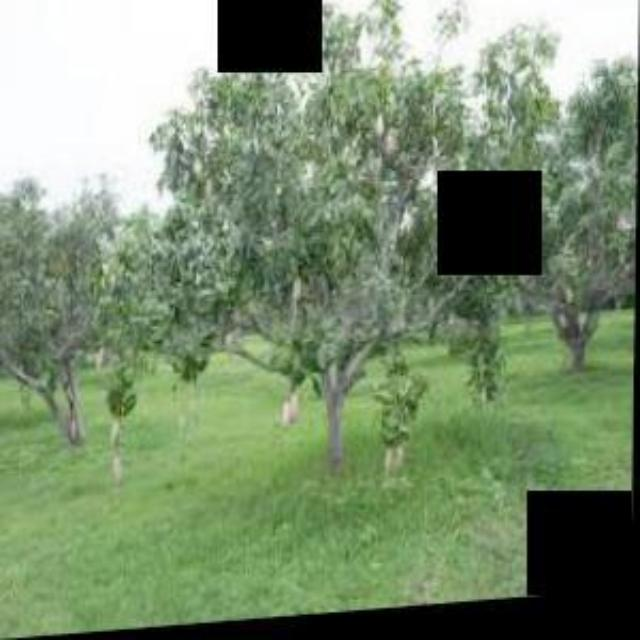tree: (137, 0, 555, 488)
